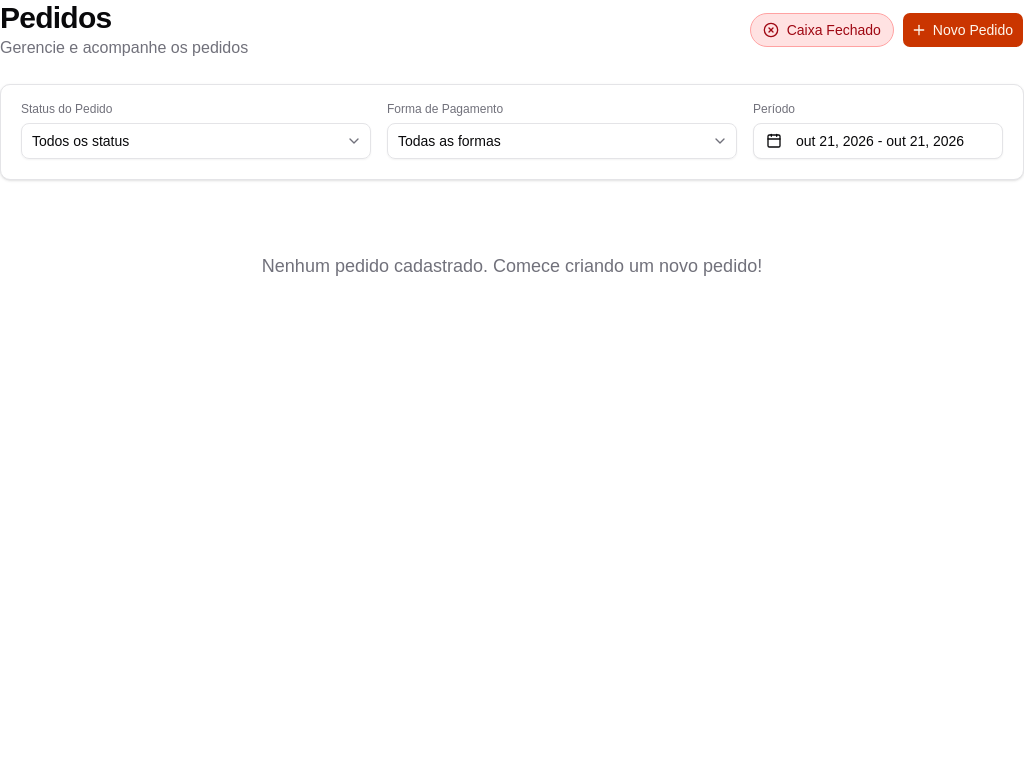
order draft dismissal › closes an untouched form without asking for discard
This screenshot has width=1024, height=768.
Click the button "Novo Pedido".
click(963, 30)  # box top-left (902, 12), bottom-right (1023, 48)
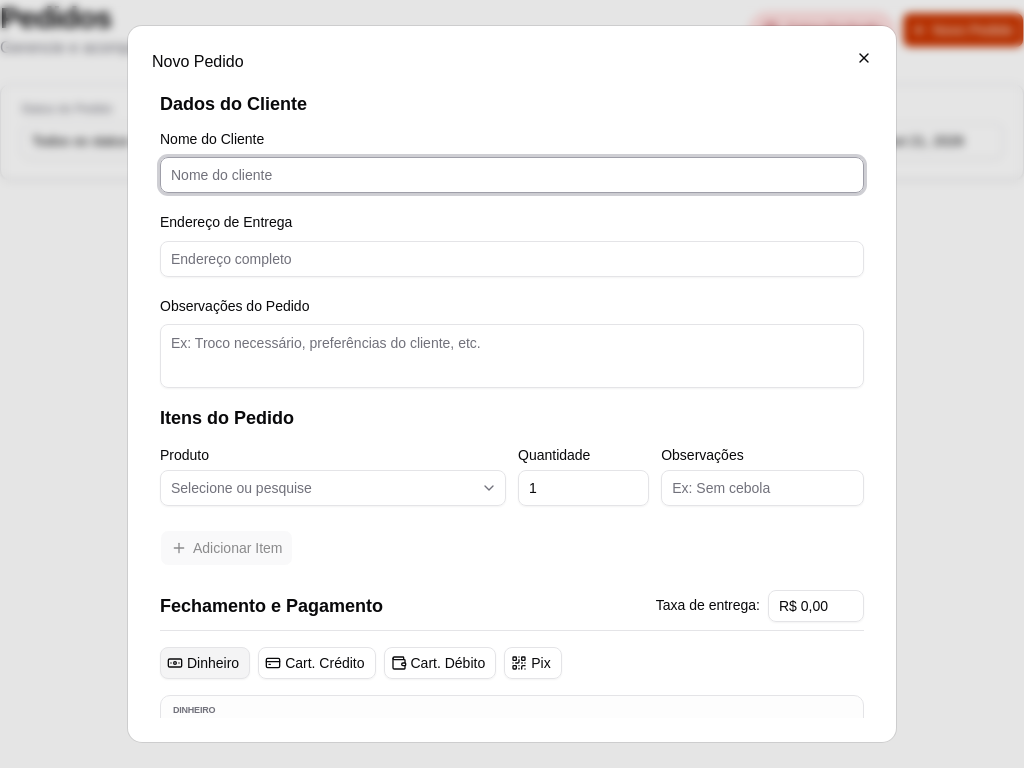
Press Escape
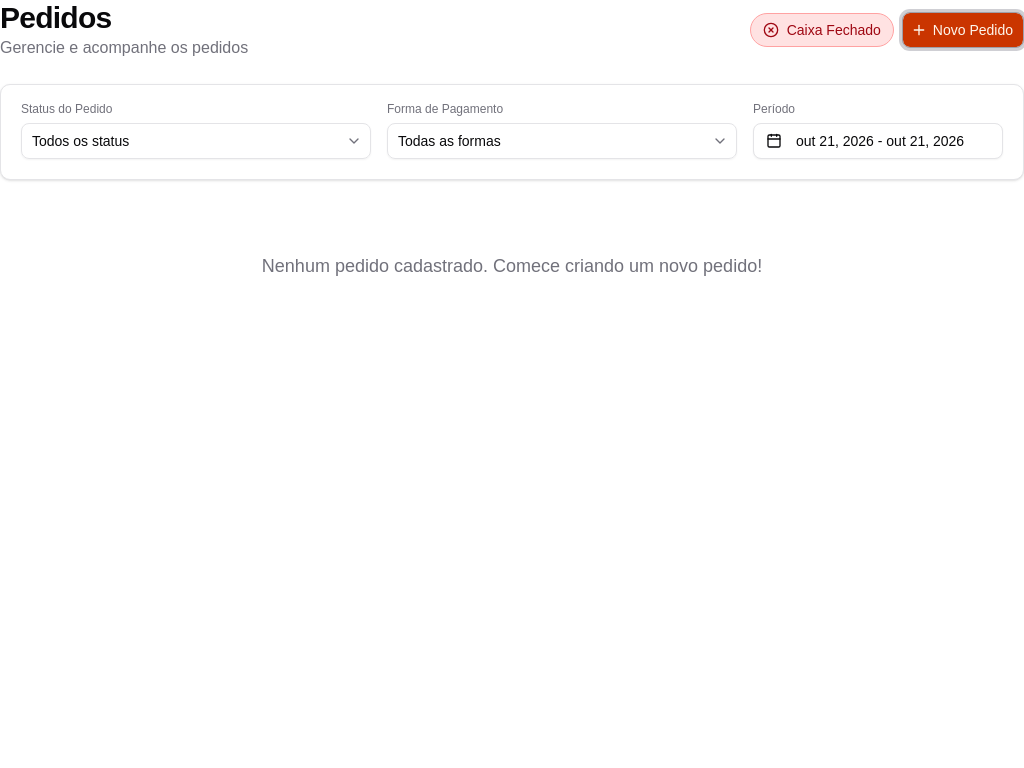
Check: the label "Nome do Cliente" is gone
Check: the dialog is gone
